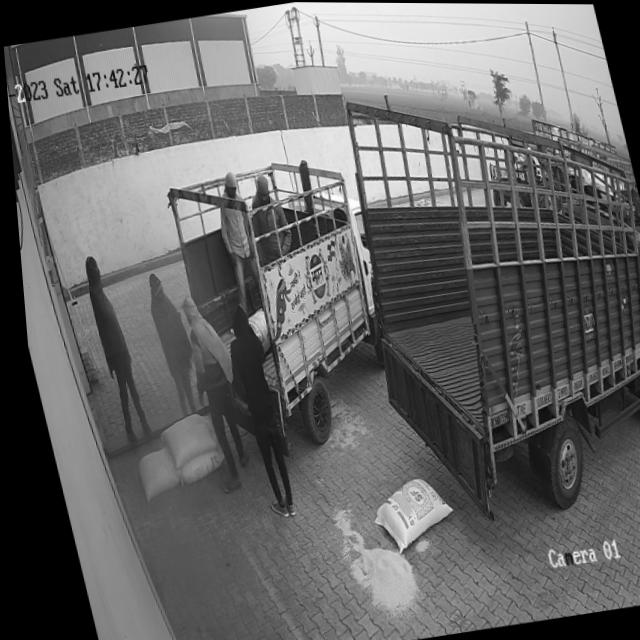sack: (356, 472, 451, 555), (149, 411, 215, 470), (125, 445, 176, 502), (168, 447, 221, 484)
